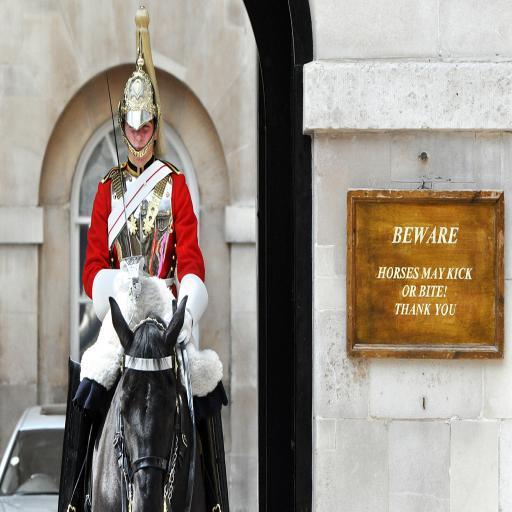horse: (89, 294, 210, 512)
